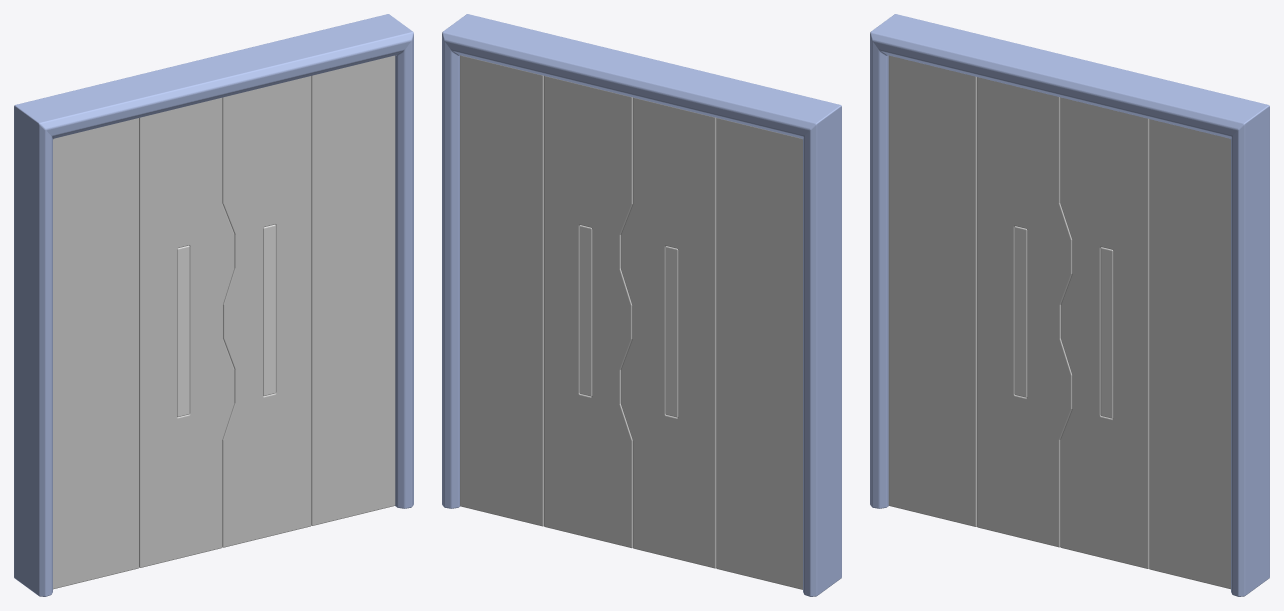
The model's file is elevator_door2_Mesh.fbx.
3 renders of one model, left to right at view 1: azimuth 30°, elevation 25°; view 2: azimuth 150°, elevation 25°; view 3: azimuth 330°, elevation 25°, orthographic.
Visible parts, largest first — view 1: Plane.001, Plane.002, Cube; view 2: Plane.001, Plane.002, Cube; view 3: Plane.001, Plane.002, Cube.
Boxes of the visible parts, x1,y1,x2,y2 form: Plane.001: (53, 98, 234, 589); Plane.002: (222, 55, 395, 547); Cube: (14, 14, 413, 596); Plane.001: (621, 97, 802, 589); Plane.002: (460, 55, 632, 548); Cube: (442, 14, 841, 596); Plane.001: (888, 55, 1072, 547); Plane.002: (1060, 97, 1230, 589); Cube: (870, 14, 1269, 596).
Size of the model in its own units: 301 by 363 by 40.95.
